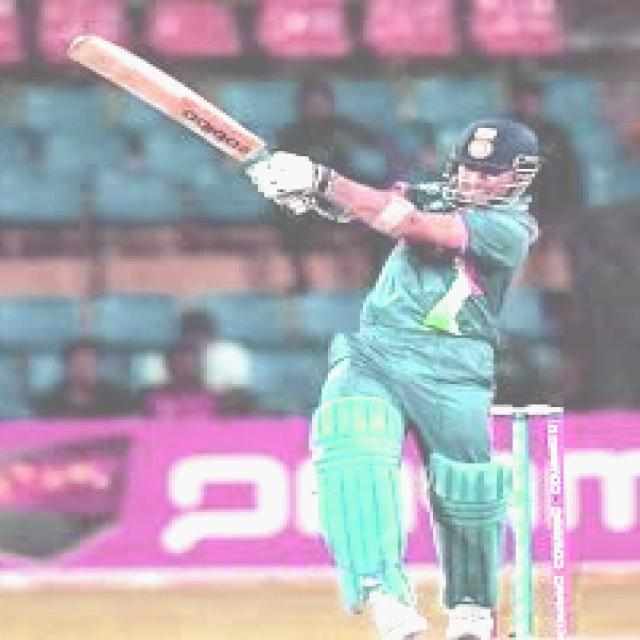toe: (59, 33, 115, 70)
